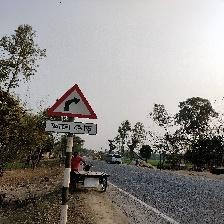Right-turn: (45, 84, 99, 135)
